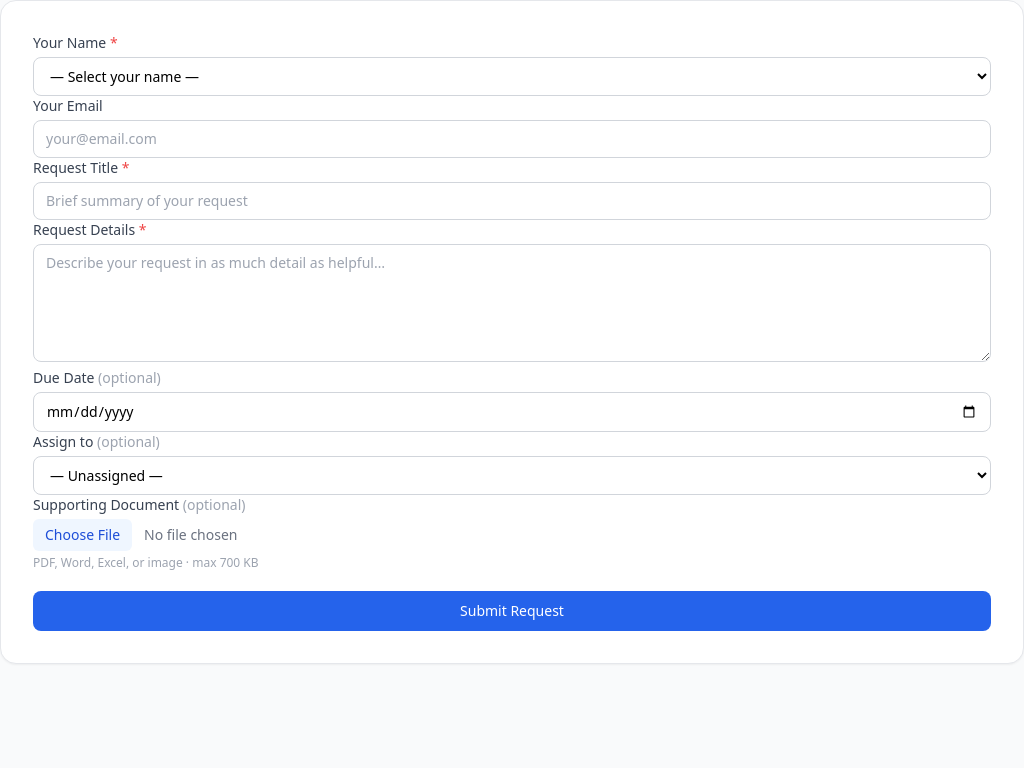
Test: IntakeForm — email pre-fill › pre-fills email when Test User One is selected
Select "Test User One" in the dropdown labelled "Your Name *" at {"x": 512, "y": 76}, box [33,57,991,96]
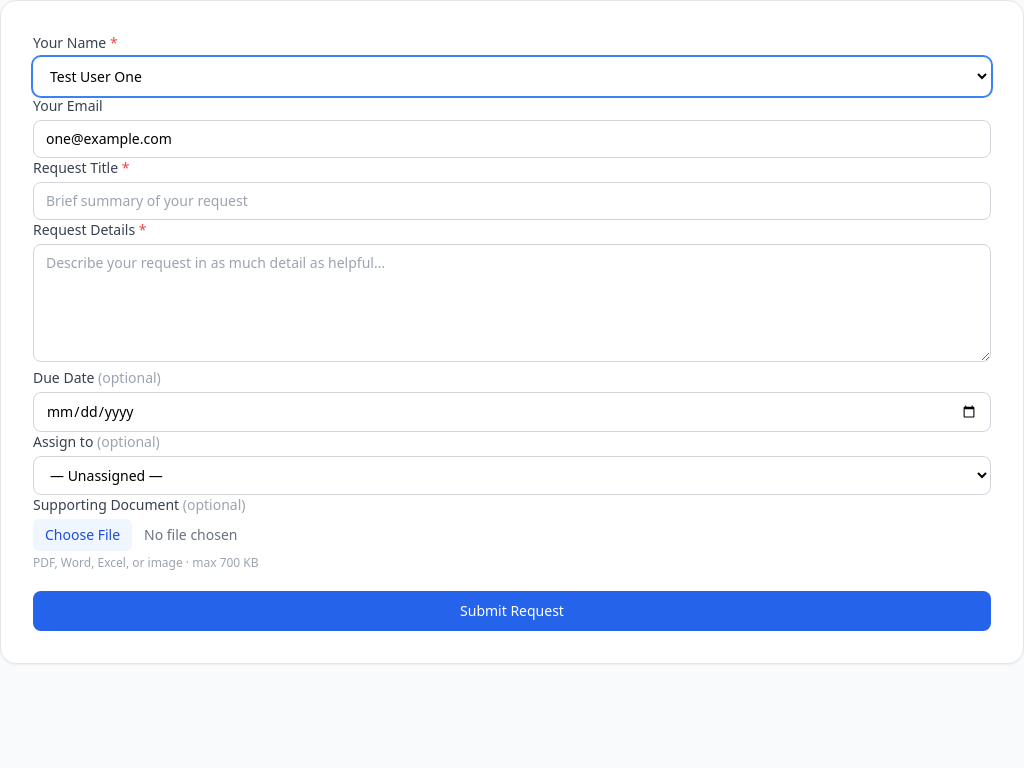
Result: the field labelled "Your Email" holds "one@example.com" at [33,120,991,158]
